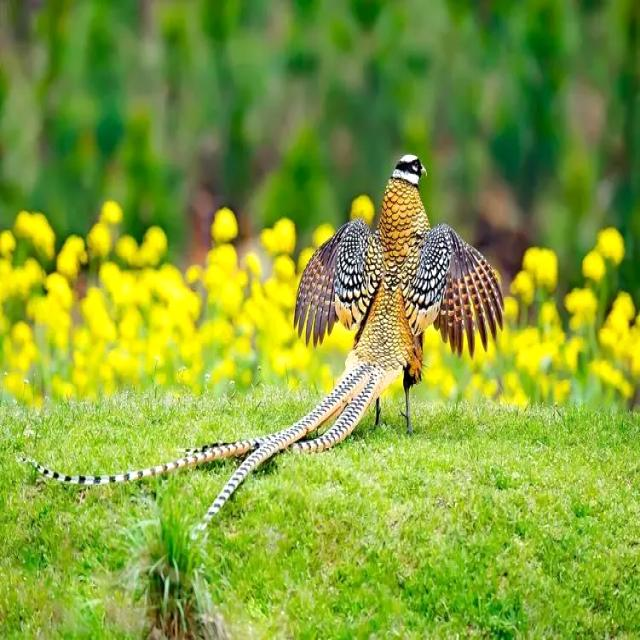Reeves-s Pheasant: (14, 365, 383, 536)
